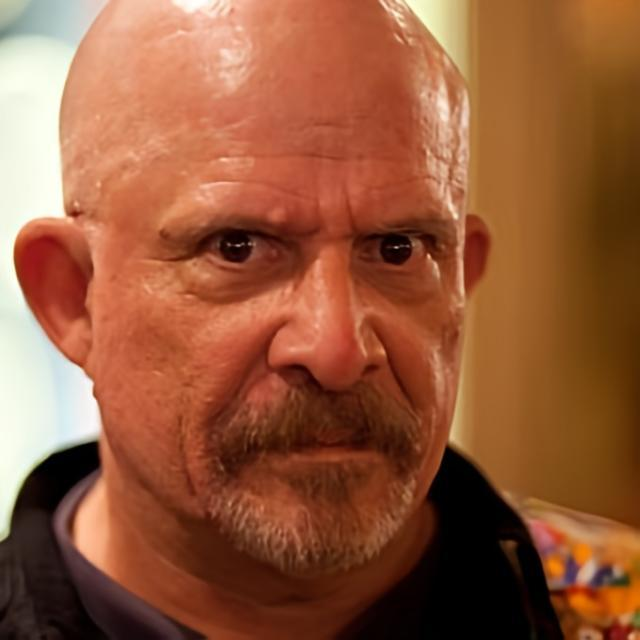anger: (93, 45, 469, 582)
